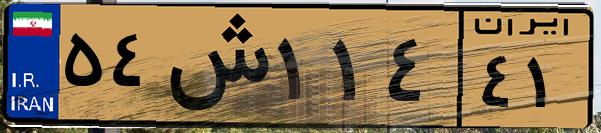1: (270, 28, 330, 110), (330, 28, 385, 110), (525, 38, 570, 115)
4: (385, 28, 445, 110), (475, 38, 525, 113), (110, 28, 158, 98)
5: (57, 26, 110, 100)
ش: (158, 12, 270, 120)
